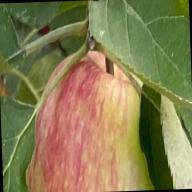Apples: (21, 48, 154, 192)
